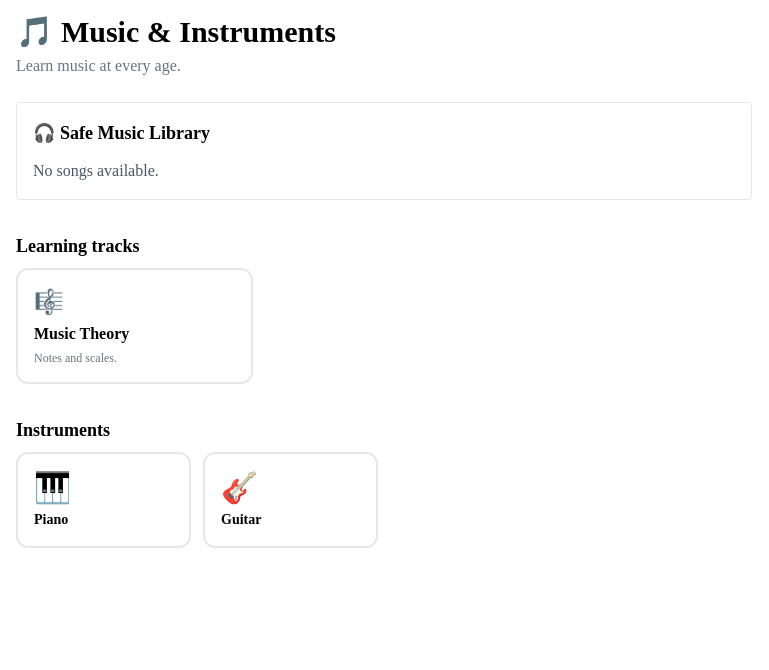
Test: MusicInstruments › lets you mark a practice routine as done today and shows the practiced count
Click the text "Piano": point(51, 520) [34,512,68,527]
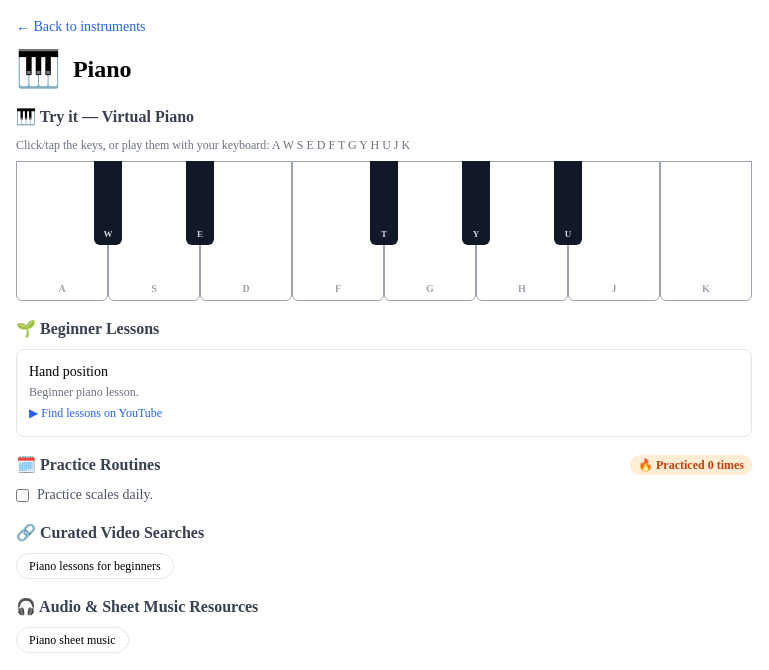
Now the checkbox named "Mark practiced today: Practice scales daily." is not checked
Click the checkbox named "Mark practiced today: Practice scales daily.": point(22, 496) [16,489,29,502]
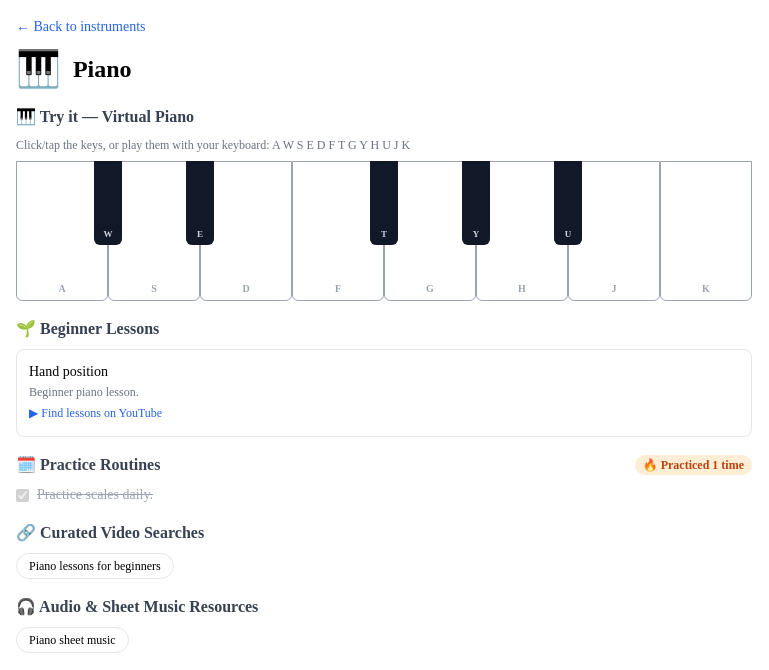
Now the checkbox named "Mark practiced today: Practice scales daily." is checked, box [16,489,29,502]
